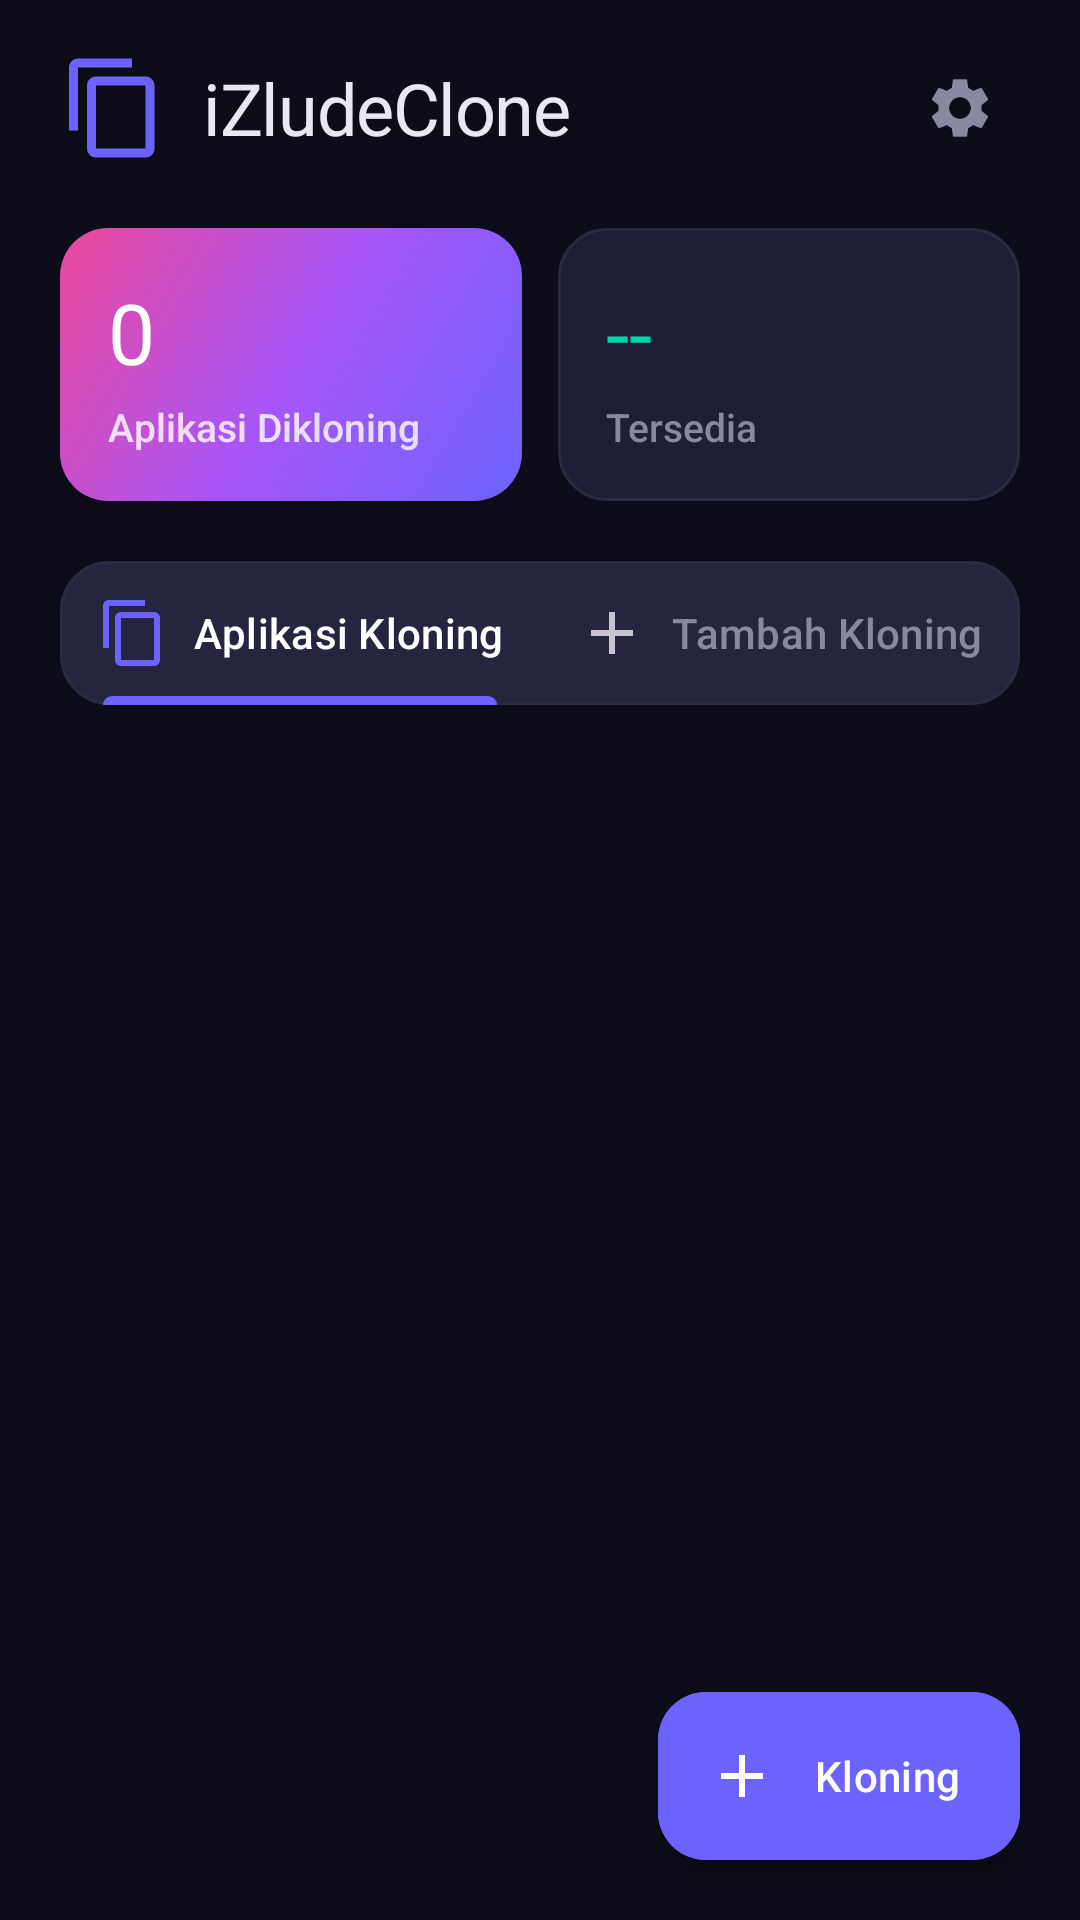

Locate icon controls on the screen. Image size 1080×1920, boxes as (x1, y1, x2, y2).
Pengaturan: (932, 79, 988, 137)
